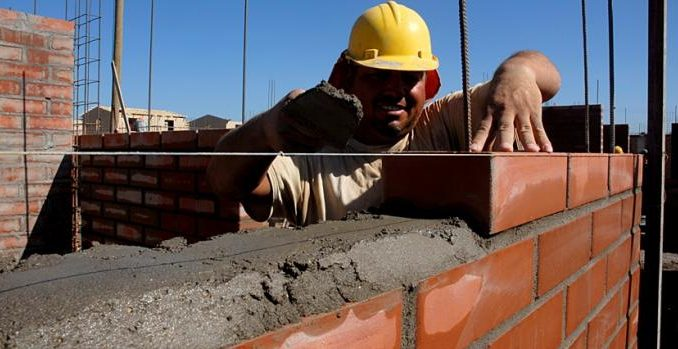casco: (341, 1, 441, 72)
